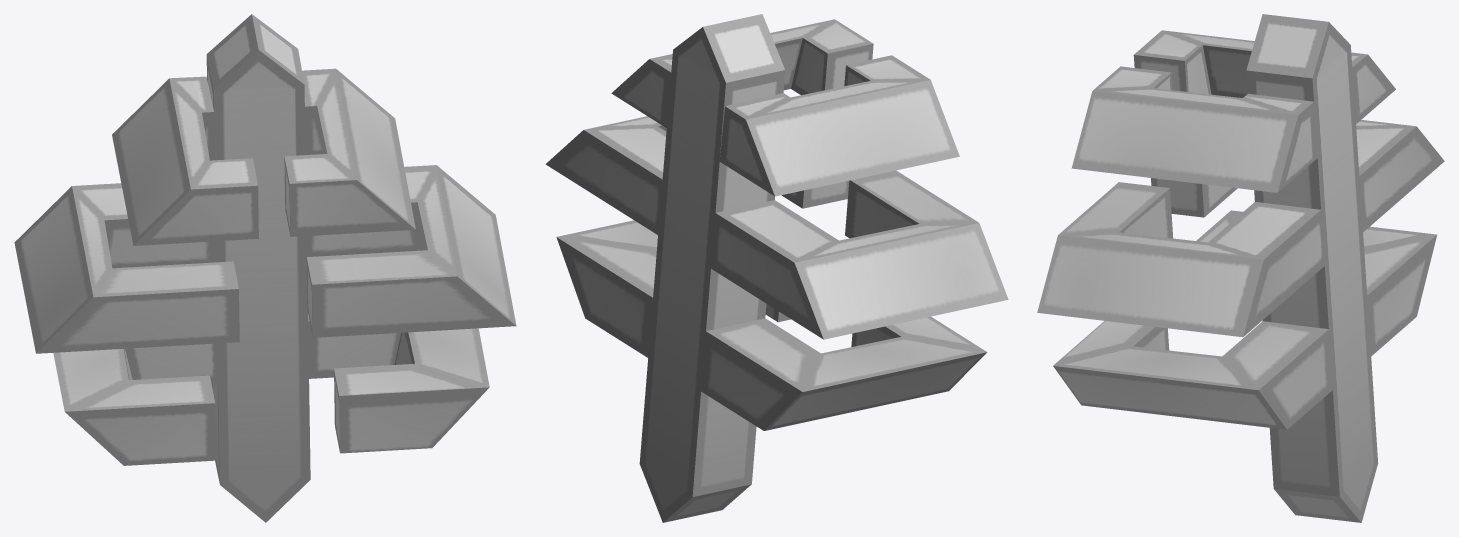
Rendered from Corpo.obj.
3 views of the same model, side by side, from view 1: azimuth 30°, elevation 25°; view 2: azimuth 150°, elevation 25°; view 3: azimuth 270°, elevation 25° (orthographic).
Visible parts, largest first — view 1: Corpo.001_Cube.003; view 2: Corpo.001_Cube.003; view 3: Corpo.001_Cube.003.
Part boxes in pixels (x1,y1,x2,y2): Corpo.001_Cube.003: (14, 14, 516, 522); Corpo.001_Cube.003: (545, 14, 1008, 522); Corpo.001_Cube.003: (1037, 14, 1444, 522).
Bounding box in the file's own units: 1.1 × 1.13 × 0.8433.
